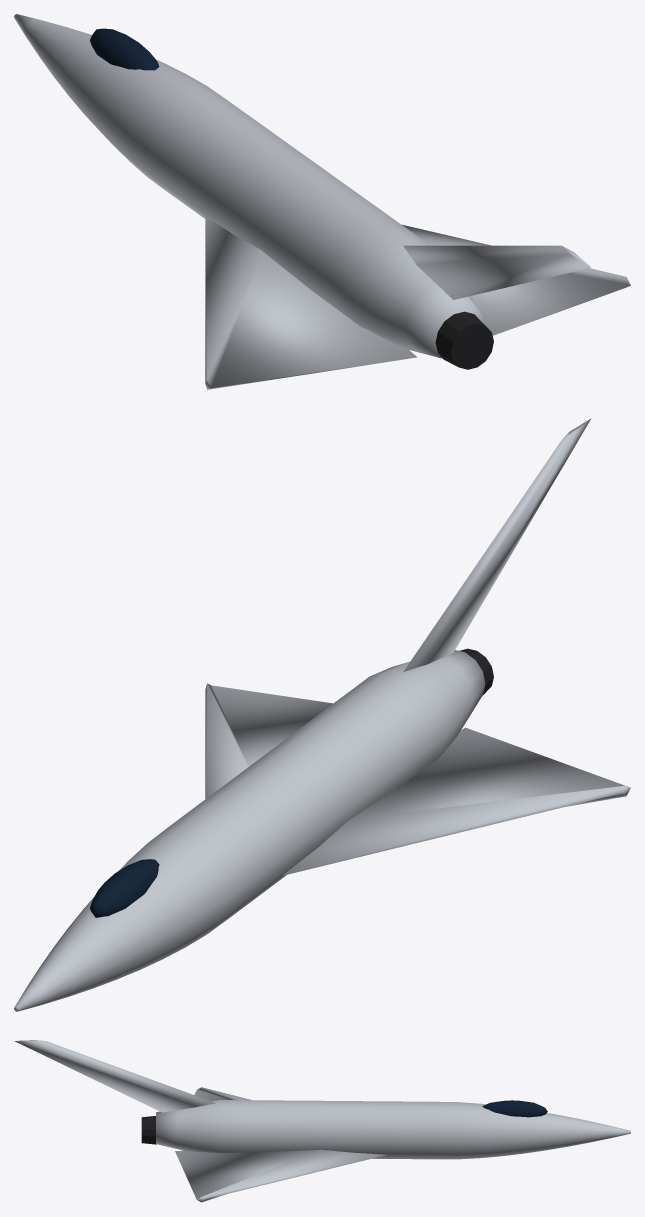
The model's file is mirage3.obj.
3 renders of one model, top to bottom at view 1: azimuth 30°, elevation 25°; view 2: azimuth 150°, elevation 25°; view 3: azimuth 270°, elevation 25°, orthographic. The views are drawn at different scales.
Visible parts, largest first — view 1: Body, Detail, Canopy; view 2: Body, Canopy; view 3: Body, Canopy, Detail.
Boxes of the visible parts, x1,y1,x2,y2 form: Body: (14,14,630,389); Detail: (435,311,493,369); Canopy: (90,28,159,70); Body: (14,418,630,1011); Canopy: (90,859,159,917); Body: (14,1040,630,1202); Canopy: (482,1100,547,1117); Detail: (141,1116,156,1144).
Bounding box in the file's own units: 8.2 × 4.03 × 19.48.
